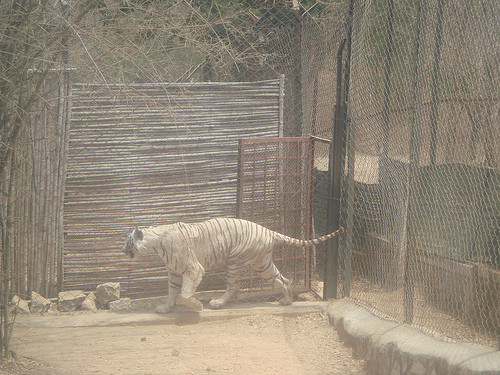Tigre: (114, 213, 326, 297)
